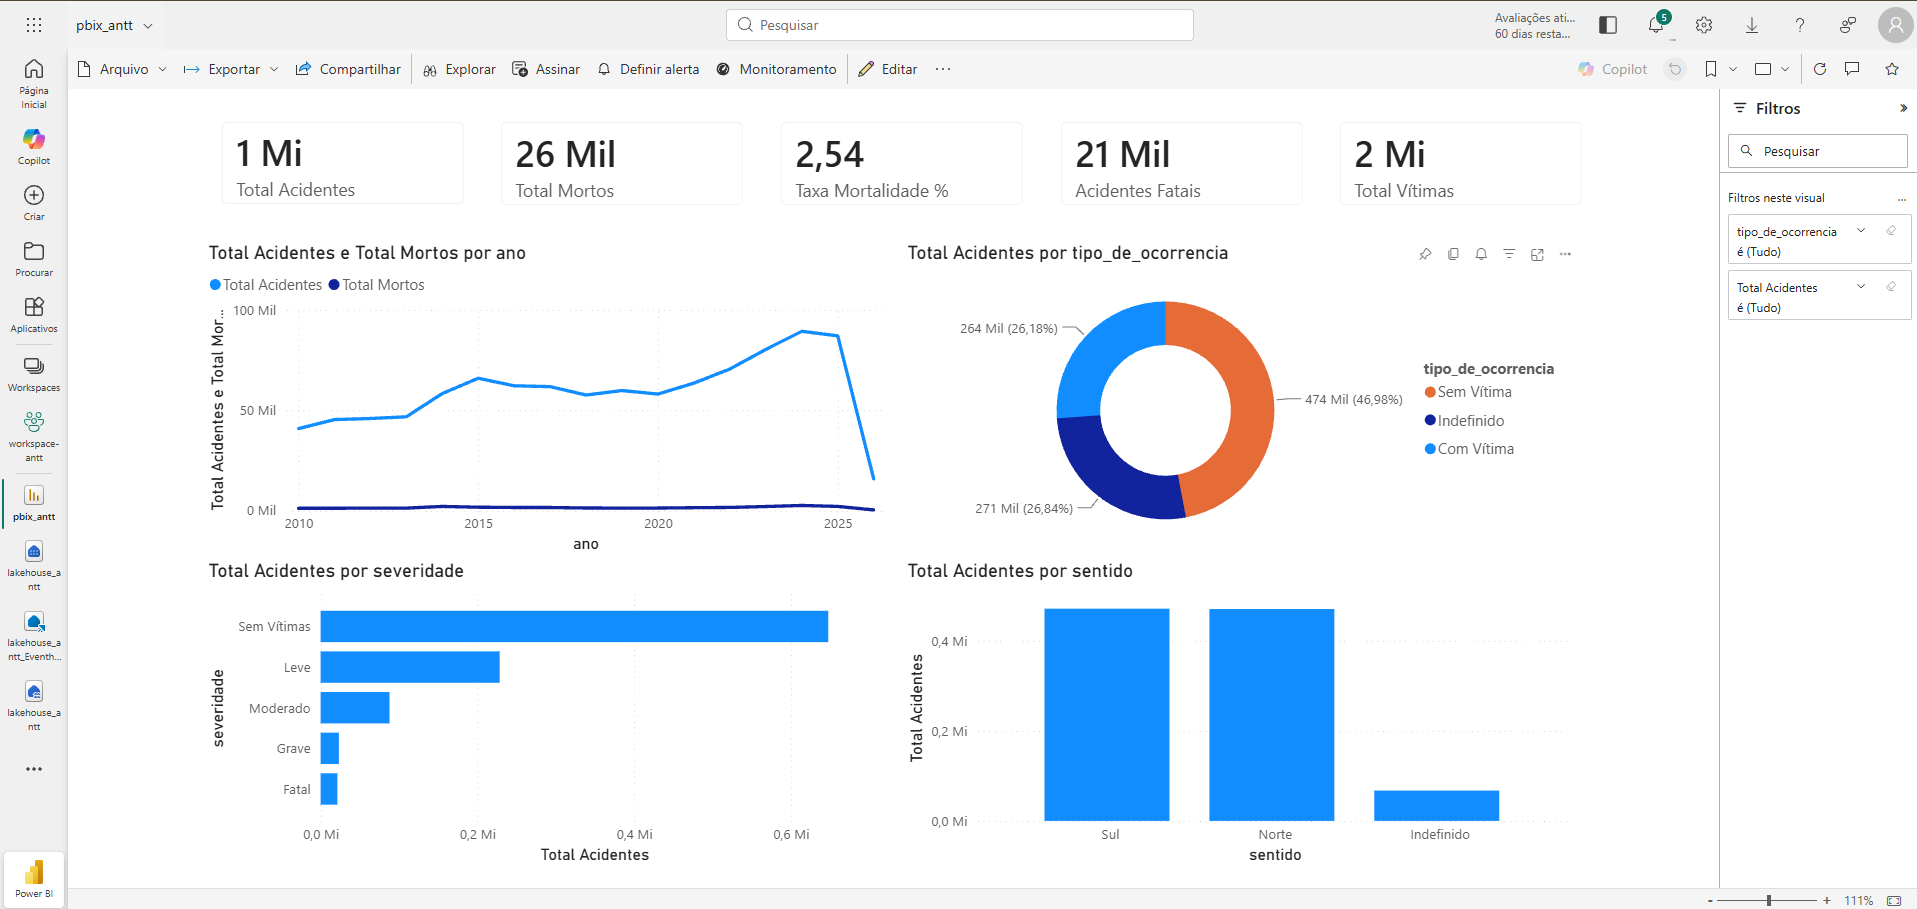

What the dashboard file says about the page in this screenshot:
{"tool":"powerbi","page":{"name":"Página 1","canvas":[1280,720],"ordinal":0},"visuals":[{"type":"cardVisual","fields":{"Data":["gold_fato_acidente.Total Acidentes"]},"box":[17.6,12.4,252.1,108.9],"z":0},{"type":"cardVisual","fields":{"Data":["gold_fato_acidente.Total Acidentes"]},"box":[269.7,9.3,252.1,110],"z":1000},{"type":"cardVisual","fields":{"Data":["gold_fato_acidente.Total Mortos"]},"box":[269.7,12.4,252.1,110],"z":2000},{"type":"cardVisual","fields":{"Data":["gold_fato_acidente.Acidentes Fatais"]},"box":[773.8,12.4,252.1,110],"z":3000},{"type":"cardVisual","fields":{"Data":["gold_fato_acidente.Taxa Mortalidade %"]},"box":[521.8,12.4,252.1,110],"z":4000},{"type":"cardVisual","fields":{"Data":["gold_fato_acidente.Total Vítimas"]},"box":[1025.9,12.4,252.1,110],"z":5000},{"type":"lineChart","fields":{"Category":["gold_dim_data.ano"],"Y":["gold_fato_acidente.Total Acidentes","gold_fato_acidente.Total Mortos"]},"box":[17.6,136.9,622.4,286.3],"z":6000},{"type":"clusteredBarChart","fields":{"Category":["gold_fato_acidente.severidade"],"Y":["gold_fato_acidente.Total Acidentes"]},"box":[17.6,423.2,622.4,279],"z":6001},{"type":"donutChart","fields":{"Category":["gold_fato_acidente.tipo_de_ocorrencia"],"Y":["gold_fato_acidente.Total Acidentes"]},"box":[648.3,136.9,608.9,286.3],"z":6002},{"type":"clusteredColumnChart","fields":{"Category":["gold_fato_acidente.sentido"],"Y":["gold_fato_acidente.Total Acidentes"]},"box":[648.3,423.2,608.9,279],"z":6003}]}

Visuals, with their boxes on the page's 1280x720 design canvas (x1, y1, x2, y2). These are canvas units, not pixel positions in the 1917x909 screenshot, which may show the page scaled, cropped or inside an application window:
cardVisual - gold_fato_acidente.Total Acidentes: box=[18, 12, 270, 121]
cardVisual - gold_fato_acidente.Total Acidentes: box=[270, 9, 522, 119]
cardVisual - gold_fato_acidente.Total Mortos: box=[270, 12, 522, 122]
cardVisual - gold_fato_acidente.Acidentes Fatais: box=[774, 12, 1026, 122]
cardVisual - gold_fato_acidente.Taxa Mortalidade %: box=[522, 12, 774, 122]
cardVisual - gold_fato_acidente.Total Vítimas: box=[1026, 12, 1278, 122]
lineChart - gold_dim_data.ano x gold_fato_acidente.Total Acidentes: box=[18, 137, 640, 423]
clusteredBarChart - gold_fato_acidente.severidade x gold_fato_acidente.Total Acidentes: box=[18, 423, 640, 702]
donutChart - gold_fato_acidente.tipo_de_ocorrencia x gold_fato_acidente.Total Acidentes: box=[648, 137, 1257, 423]
clusteredColumnChart - gold_fato_acidente.sentido x gold_fato_acidente.Total Acidentes: box=[648, 423, 1257, 702]
